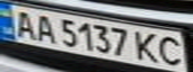1: (72, 20, 93, 52)
3: (90, 22, 112, 55)
5: (54, 16, 78, 47)
7: (109, 25, 133, 58)
A: (30, 12, 60, 44), (9, 8, 39, 39)
C: (154, 34, 187, 69)
K: (133, 29, 163, 64)
